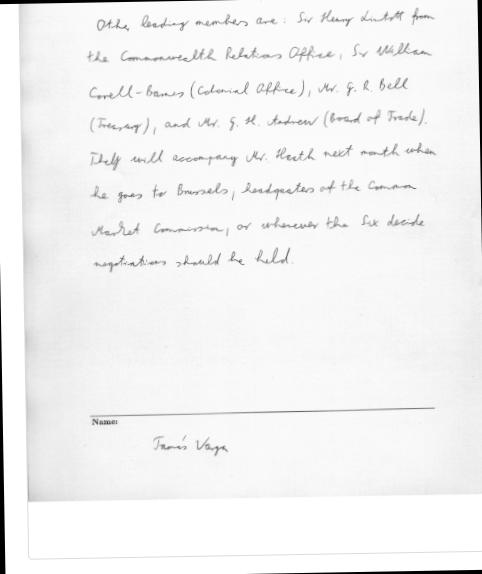text: (85, 142, 437, 174), (86, 106, 429, 138), (92, 5, 437, 36), (88, 210, 427, 240), (86, 176, 420, 206), (83, 40, 434, 68), (85, 76, 410, 104), (89, 244, 295, 274), (150, 431, 231, 461), (88, 416, 119, 429)
